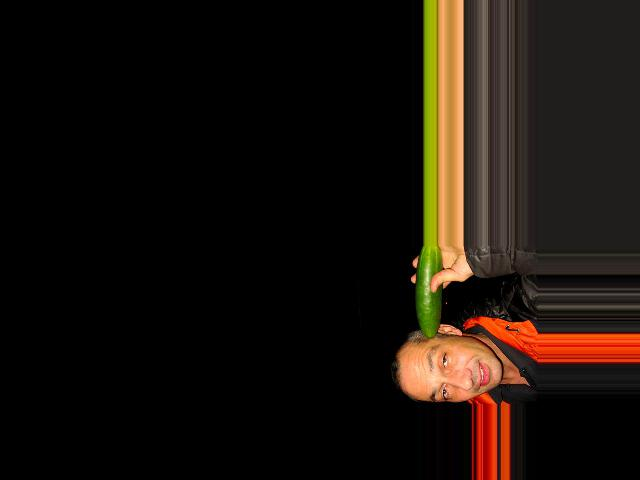cucumber: (415, 245, 442, 339)
